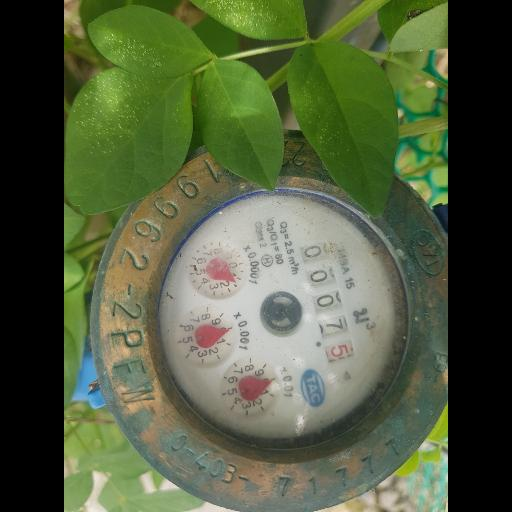0: (313, 290, 344, 314), (306, 265, 337, 288), (299, 241, 331, 263)
5: (323, 338, 355, 364)
7: (319, 315, 350, 339)
border_water_meter_number: (298, 238, 359, 367)
